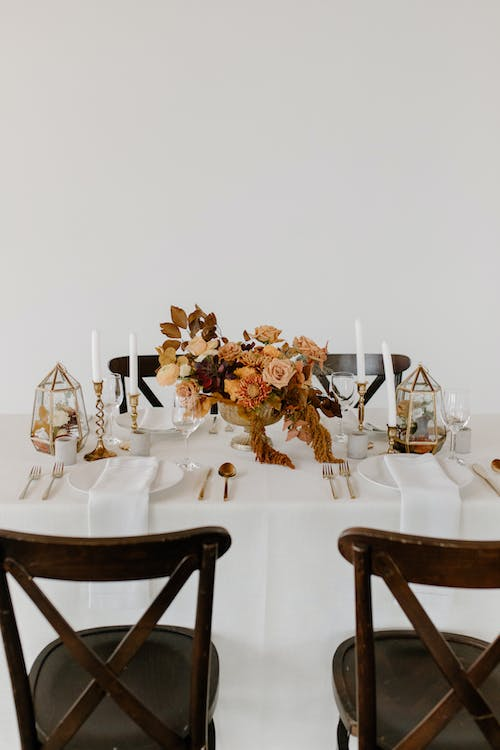knife: (471, 459, 500, 498), (197, 463, 214, 502)
